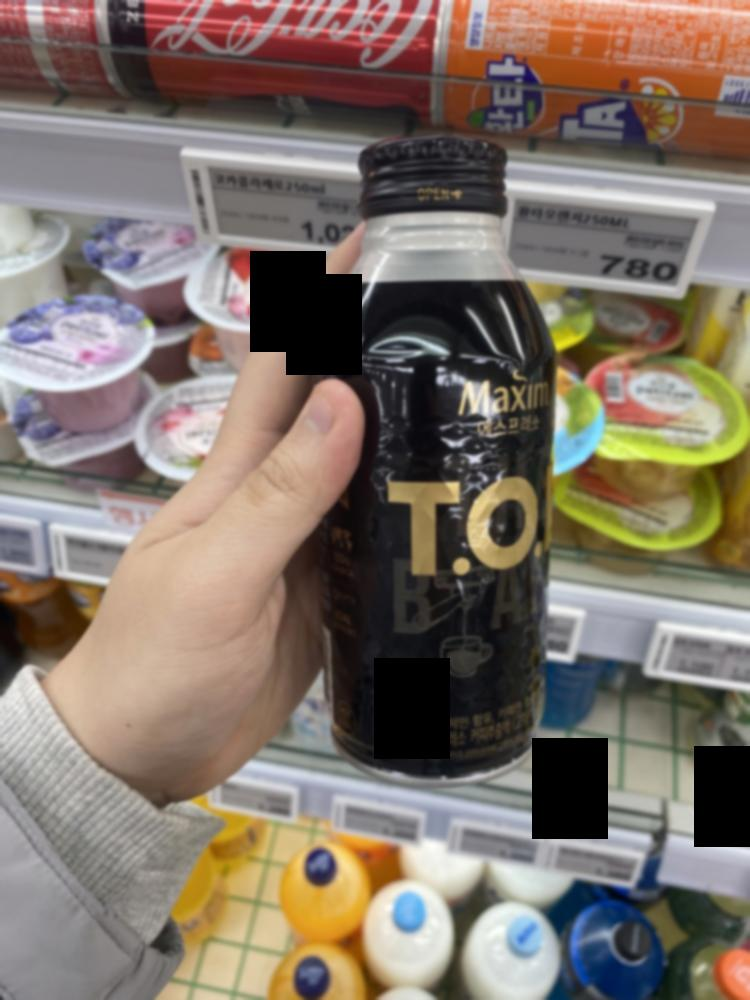TOP_black: (319, 146, 557, 768)
